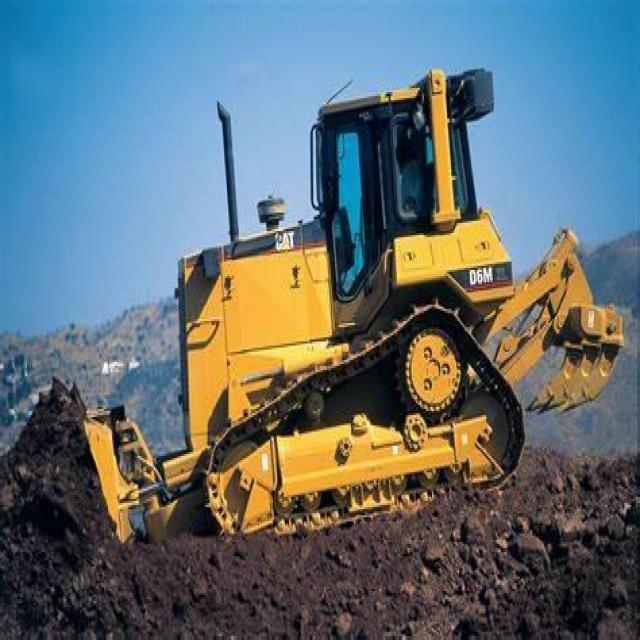Bulldozer: (59, 55, 612, 550)
